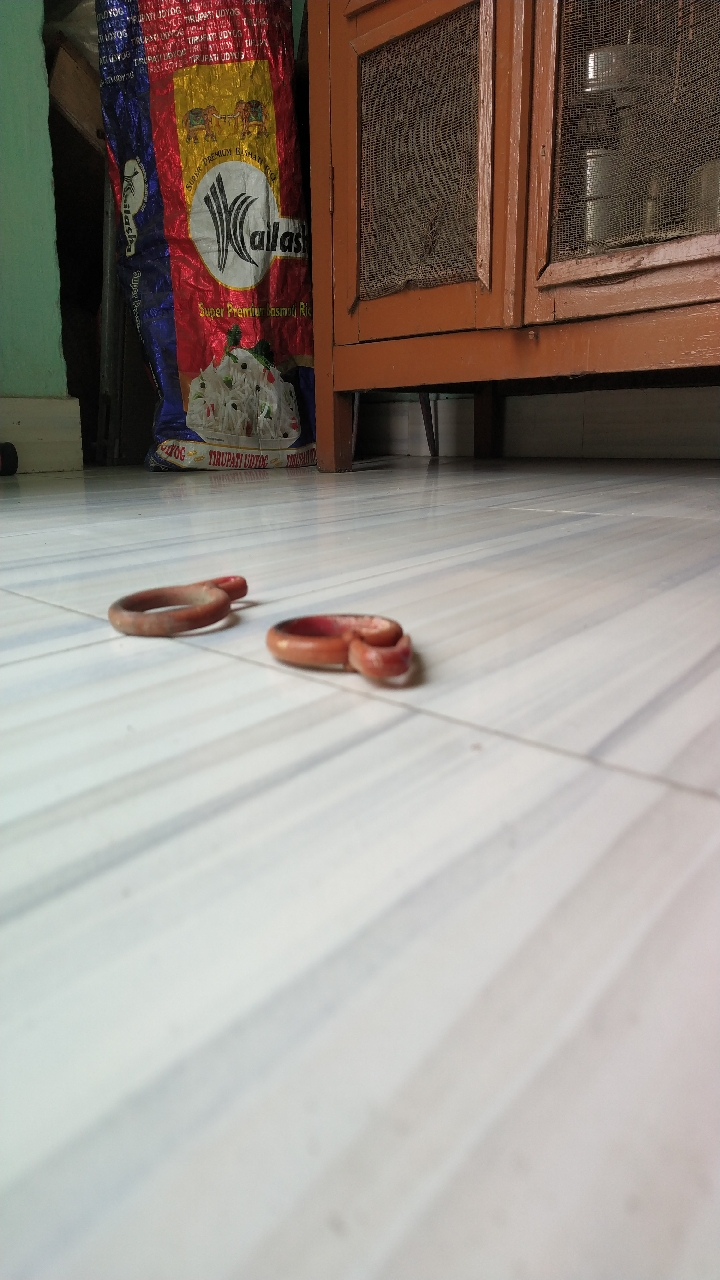Furnitures: (294, 135, 720, 478)
garments: (260, 613, 427, 691), (100, 564, 254, 645)
